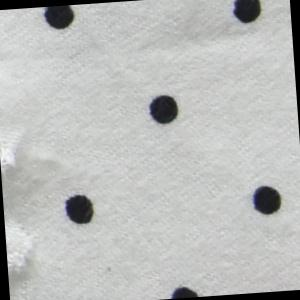Damage: (1, 146, 43, 300)
